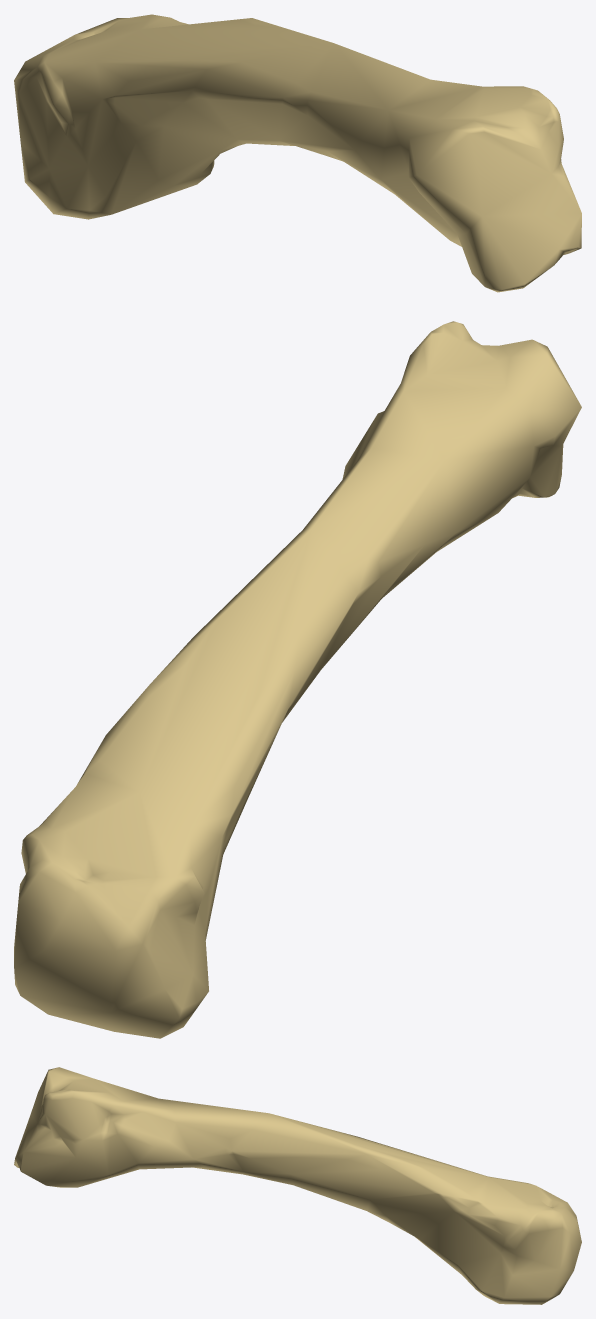
3 renders of one model, top to bottom at view 1: azimuth 30°, elevation 25°; view 2: azimuth 150°, elevation 25°; view 3: azimuth 270°, elevation 25°, orthographic. The views are drawn at different scales.
Parts seen in each view (by area): view 1: 左侧第四掌骨; view 2: 左侧第四掌骨; view 3: 左侧第四掌骨.
Part boxes in pixels (x1,y1,x2,y2): 左侧第四掌骨: (14,14,581,292); 左侧第四掌骨: (14,321,581,1038); 左侧第四掌骨: (14,1067,581,1304).
Bounding box in the file's own units: 0.0193 × 0.04 × 0.0915.
